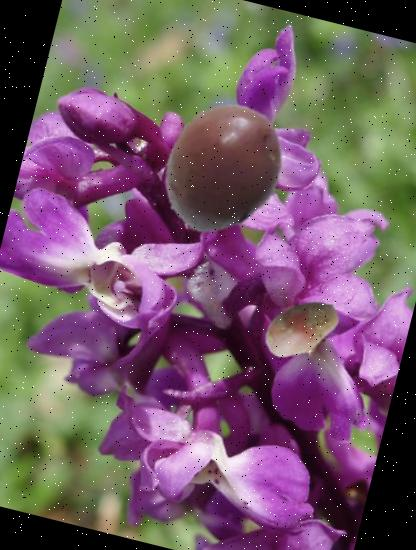Potato: (142, 87, 304, 248), (254, 282, 352, 380)
